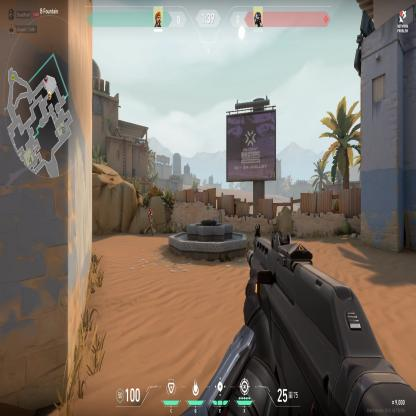enemy: (146, 206, 154, 237)
